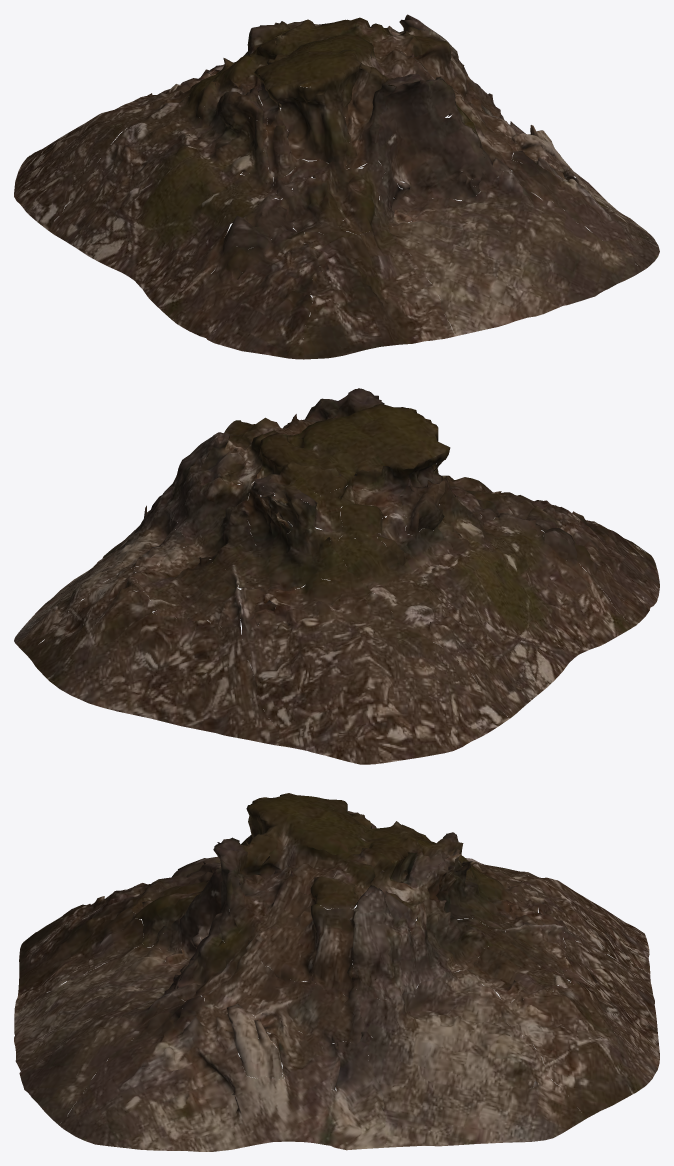
The model's file is nyb_gangs_block.glb.
3 views of the same model, one above another, from view 1: azimuth 30°, elevation 25°; view 2: azimuth 150°, elevation 25°; view 3: azimuth 270°, elevation 25° (orthographic). The views are drawn at different scales.
Parts seen in each view (by area): view 1: tree_stump_01; view 2: tree_stump_01; view 3: tree_stump_01.
Part boxes in pixels (x1=…): tree_stump_01: x1=14, y1=14, x2=659, y2=359; tree_stump_01: x1=14, y1=388, x2=659, y2=764; tree_stump_01: x1=14, y1=793, x2=659, y2=1151.
Bounding box in the file's own units: 1.42 × 0.5732 × 1.59.
1 material, 1 textured.
